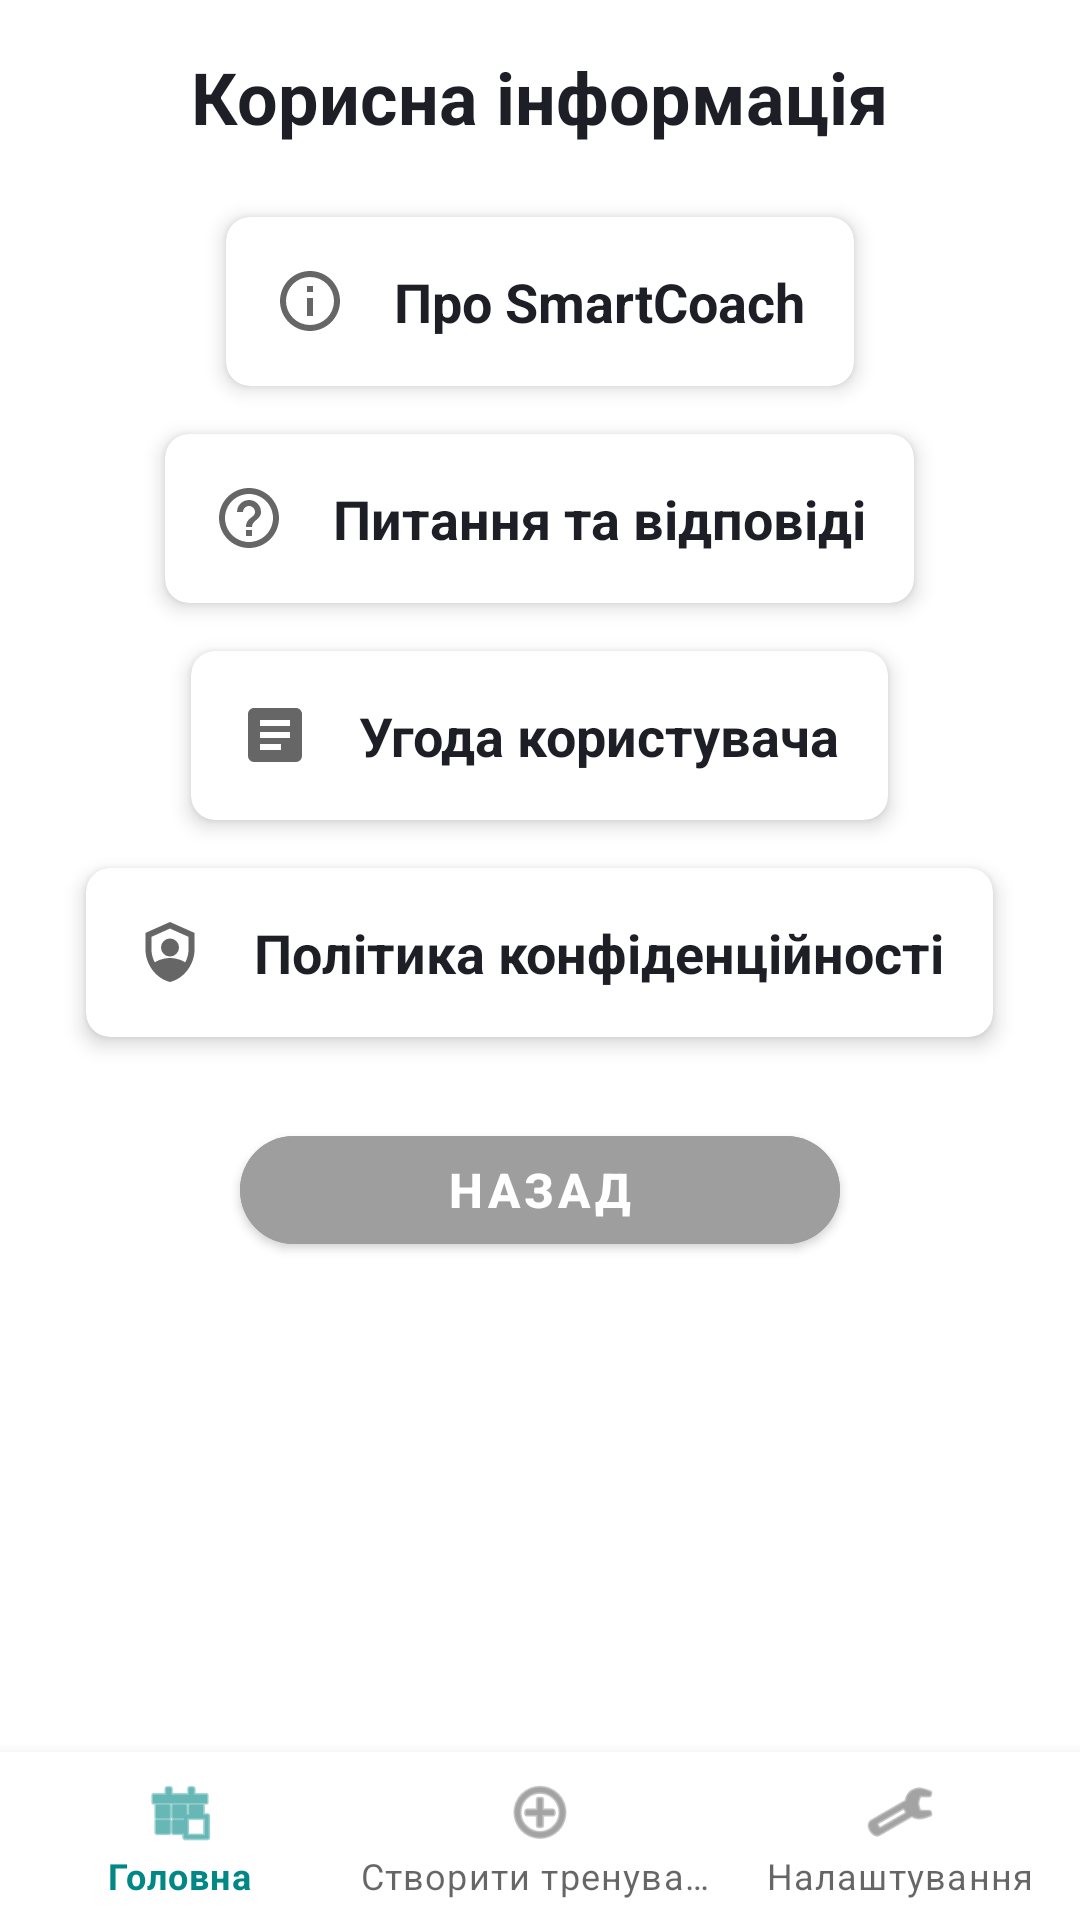

Screen size 1080 x 1920. Icon name, then its center in pixels as point (x, y):
document: point (275, 735)
help: point (249, 518)
info: point (310, 301)
privacy: point (170, 952)
